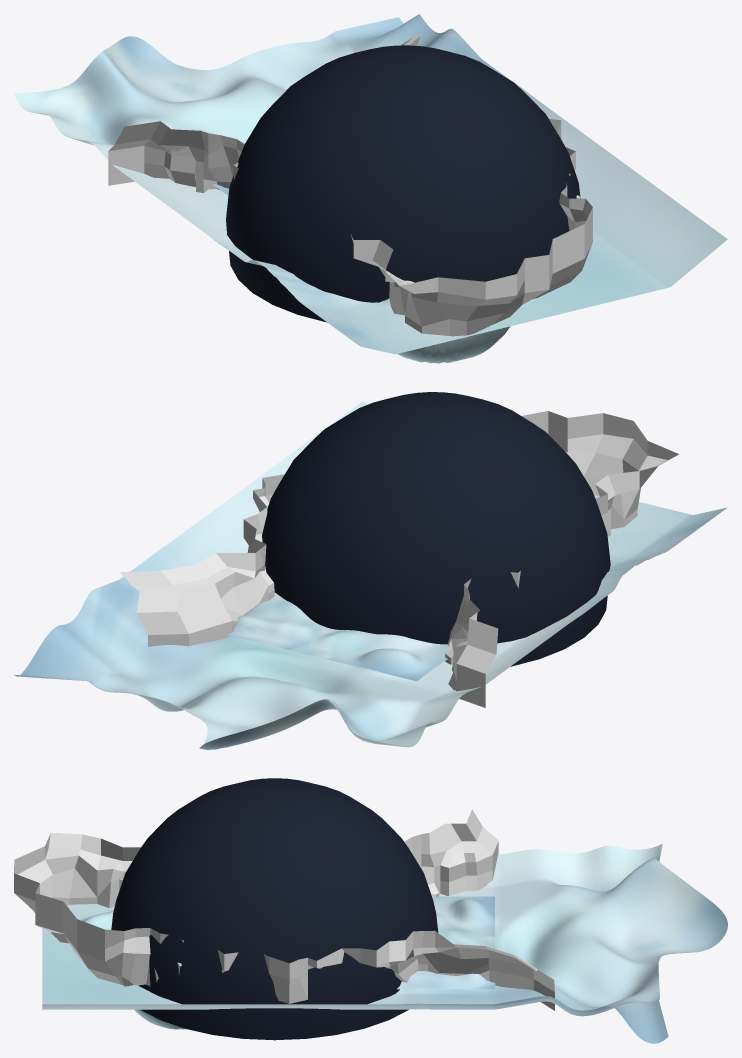
Rendered from Terrain.fbx.
3 renders of one model, top to bottom at view 1: azimuth 30°, elevation 25°; view 2: azimuth 150°, elevation 25°; view 3: azimuth 270°, elevation 25°, orthographic. The views are drawn at different scales.
Parts seen in each view (by area): view 1: Sky_Sphere, Terrain_1, Cliff_0; view 2: Sky_Sphere, Terrain_1, Cliff_0, Terrain_0; view 3: Sky_Sphere, Terrain_1, Cliff_0, Terrain_0.
Boxes of the visible parts, x1,y1,x2,y2 form: Sky_Sphere: [226, 45, 580, 322]; Terrain_1: [14, 14, 727, 363]; Cliff_0: [108, 32, 592, 338]; Sky_Sphere: [262, 392, 610, 666]; Terrain_1: [14, 401, 727, 749]; Cliff_0: [120, 411, 678, 707]; Terrain_0: [226, 592, 447, 681]; Sky_Sphere: [111, 778, 438, 1040]; Terrain_1: [42, 844, 727, 1043]; Cliff_0: [14, 809, 554, 1010]; Terrain_0: [397, 896, 495, 989].
Size of the model in its own units: 75816 by 46476 by 130008.
